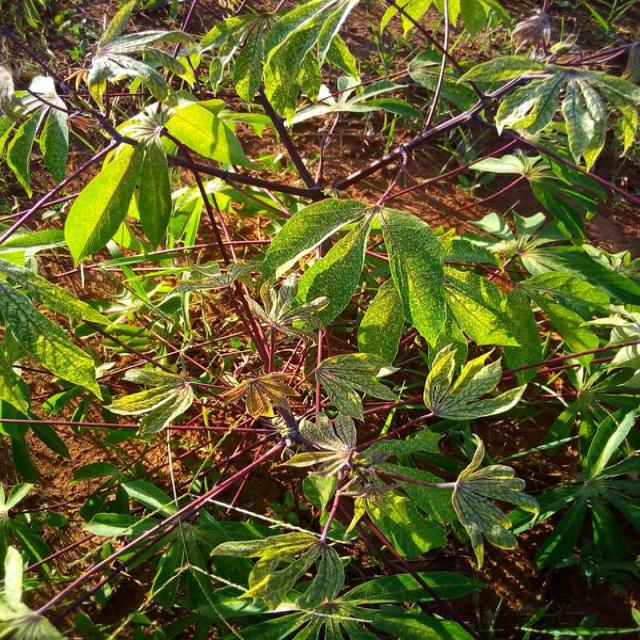cassava leaf: (64, 94, 254, 269)
